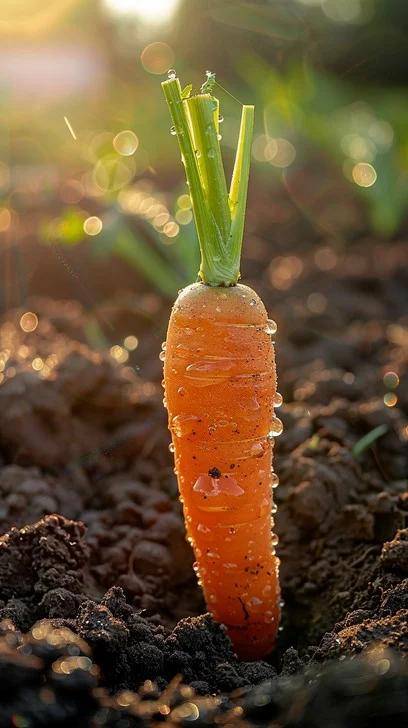carrot: (140, 72, 303, 642)
